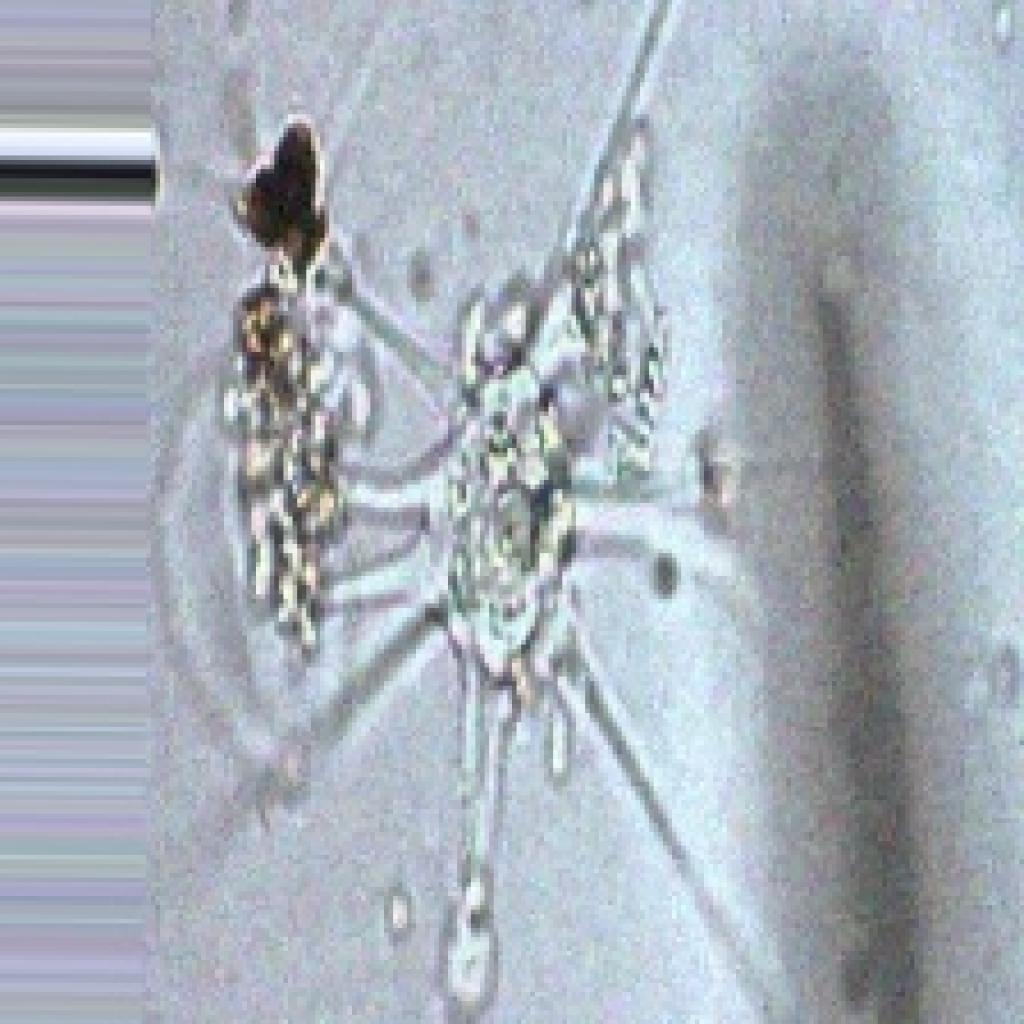Amoeba: (174, 85, 816, 1024)
